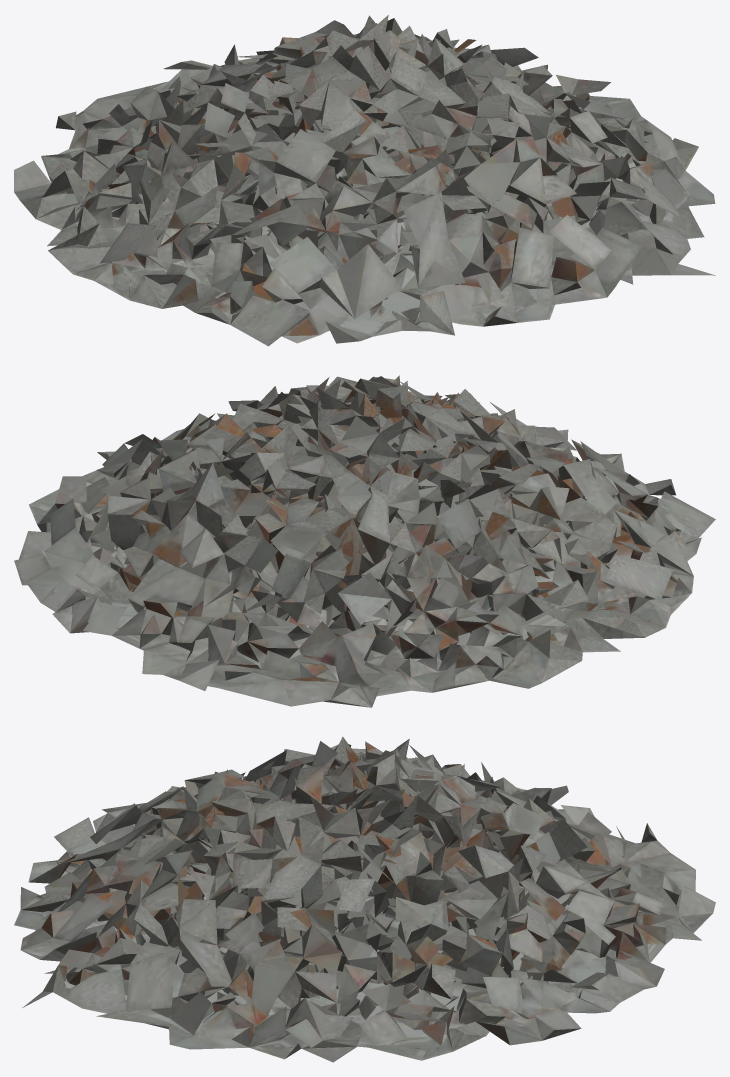
File: concrete_rubble_mound.glb
The picture shows the model from 3 angles, top to bottom: view 1: azimuth 30°, elevation 25°; view 2: azimuth 150°, elevation 25°; view 3: azimuth 270°, elevation 25°; orthographic projection.
Size of the model in its own units: 1.79 by 0.4841 by 1.82.
1 material, 1 textured.
